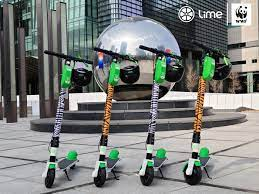kick_board: (41, 51, 93, 187), (138, 45, 183, 185), (185, 40, 229, 183), (93, 47, 137, 187)
kick_handler: (44, 50, 93, 65), (94, 46, 138, 62), (193, 40, 229, 58), (140, 44, 182, 59)
kick_neck: (192, 64, 209, 150), (99, 67, 116, 148), (150, 65, 165, 150)
kick_wheel: (183, 161, 201, 185), (93, 160, 105, 186), (140, 164, 153, 185), (44, 163, 55, 187)
